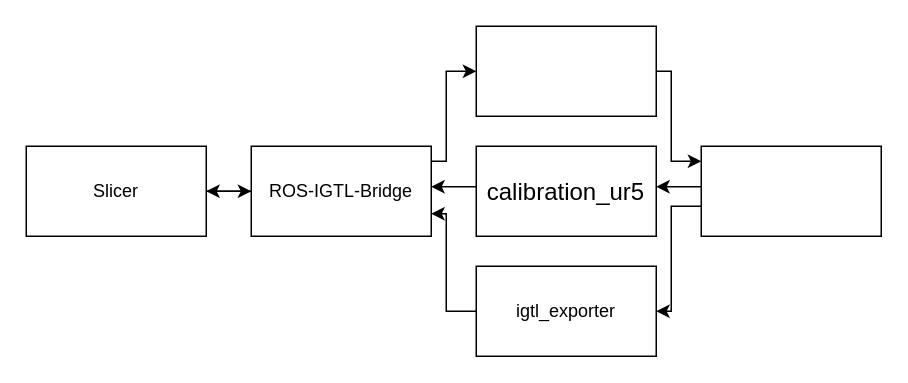
This 908x383 diagram has some shape labels left out. The centre of each missing label's shape, as x and y in pixels:
igtl_importer: the point at 565,70
ROS: the point at 790,190
